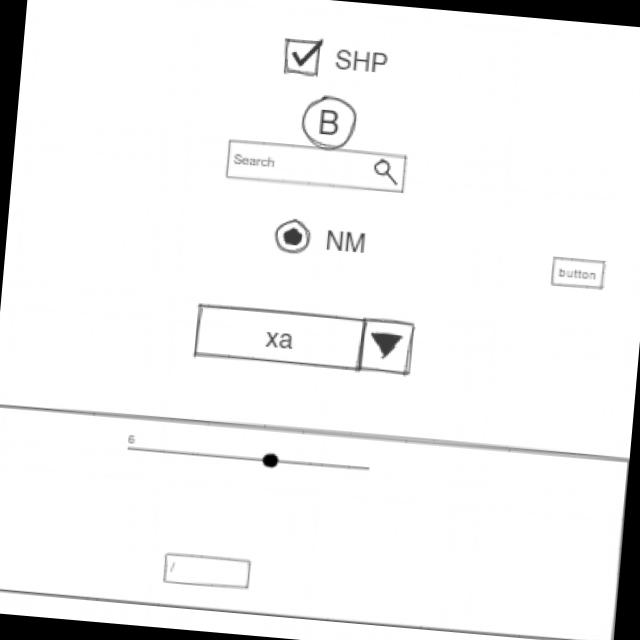button: (550, 254, 608, 294)
checkbox: (282, 35, 393, 86)
container: (1, 400, 630, 640)
icon-button: (298, 92, 360, 155)
input: (160, 549, 255, 594)
radio: (273, 217, 373, 262)
search: (224, 138, 411, 197)
select: (191, 299, 419, 381)
slider: (140, 439, 375, 481)
